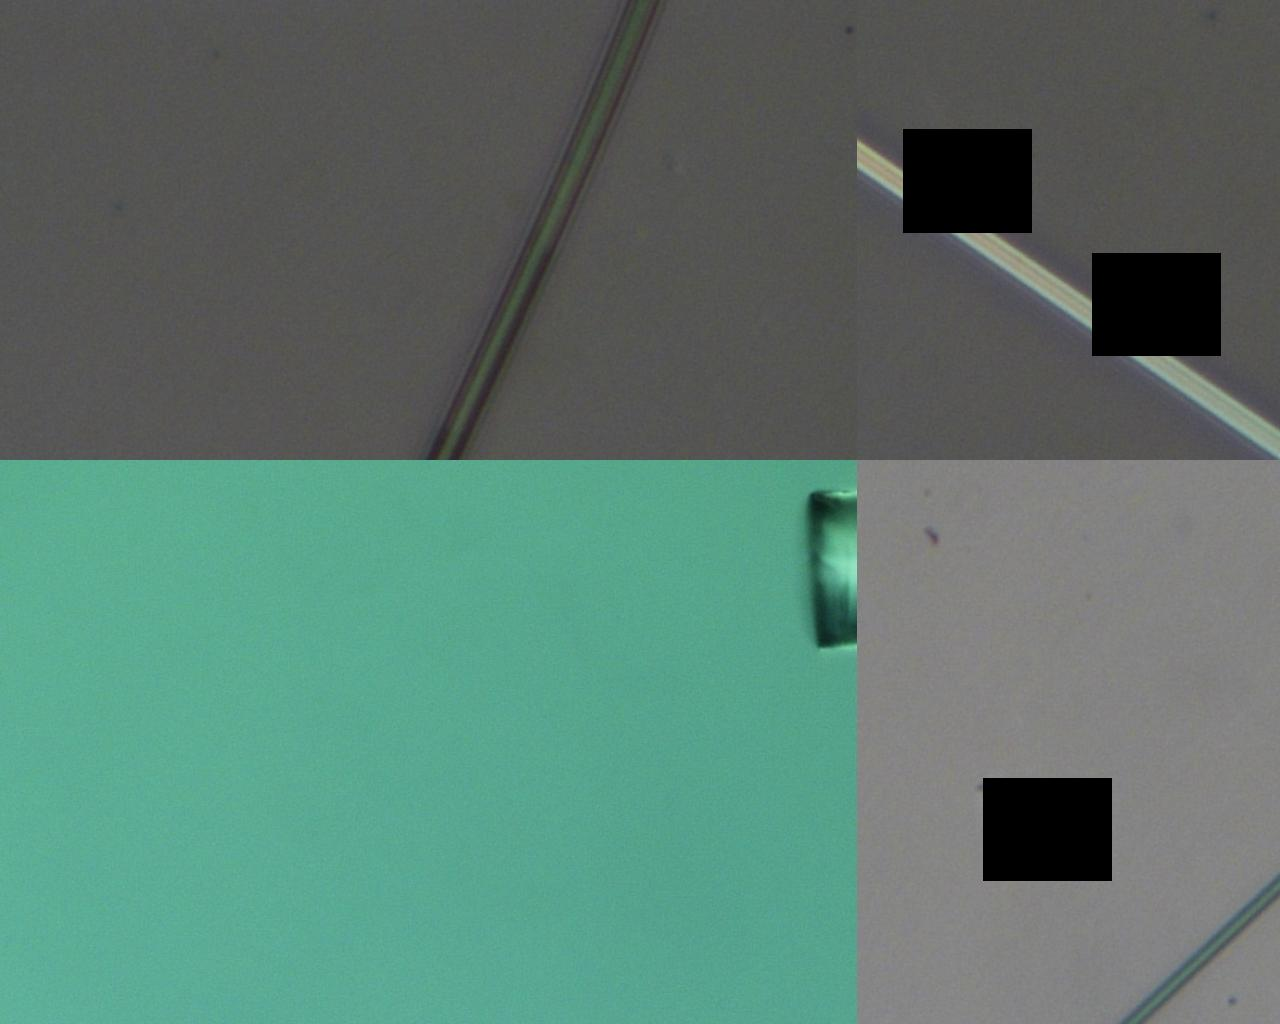fiber: (906, 0, 1280, 430), (409, 0, 780, 430), (553, 430, 748, 1024), (1139, 430, 1188, 1024)
